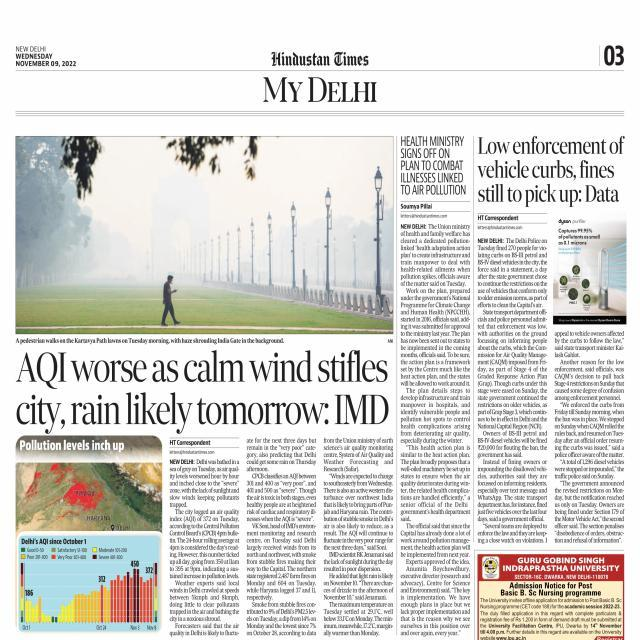Article: (12, 134, 394, 640), (475, 129, 628, 547), (398, 128, 471, 640)
Body: (399, 221, 469, 640), (478, 235, 548, 545), (554, 329, 626, 546), (244, 436, 318, 640), (322, 436, 394, 640), (168, 455, 240, 640)
Date: (14, 52, 79, 68)
Heading: (14, 348, 392, 436), (476, 134, 627, 209), (400, 133, 468, 197)
Highlights: (19, 438, 126, 456)
Image: (16, 137, 394, 335), (19, 534, 161, 632), (478, 554, 625, 640), (17, 462, 162, 532), (556, 254, 626, 314)
Name: (261, 75, 378, 105), (269, 50, 372, 66)
